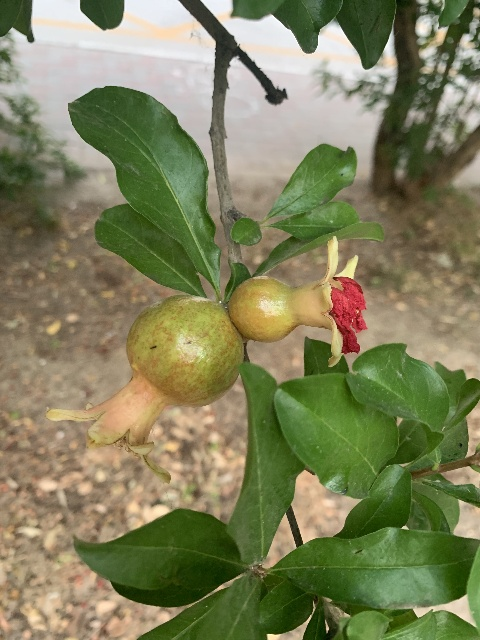early-fruit: (45, 296, 243, 485), (227, 236, 367, 368)
